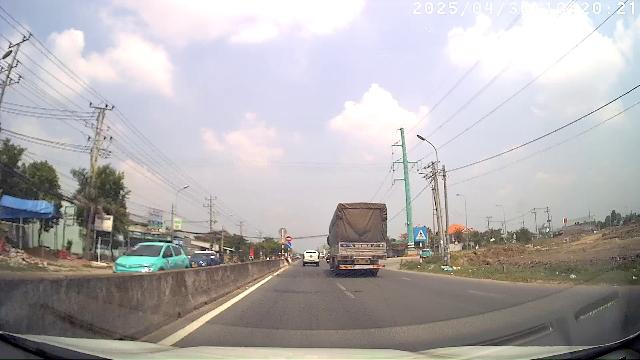102-cam-di-nguoc-chieu: (286, 235, 292, 241)
302a-huong-phai-di-vong-chuong-ngai-vat-1: (285, 242, 291, 248)
423a-duong-nguoi-di-bo-sang-ngang-1: (414, 227, 428, 241)
